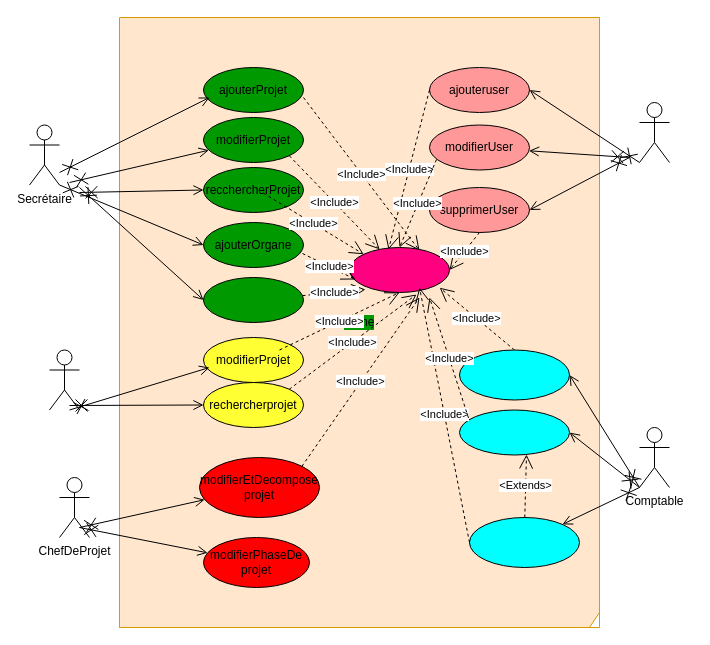
This 710x645 diagram has some shape labels left out. The box of each missing label's shape, as (x1, y1, x2, y2) in pixels:
Administrateur: (638, 102, 670, 162)
Authentification: (348, 246, 450, 292)
Directeur: (48, 349, 80, 410)
facturerLesPhases: (458, 409, 570, 455)
modifierFature et paiement: (458, 349, 570, 400)
modifierOrgane: (202, 276, 304, 322)
Rechercher: (468, 516, 580, 568)
